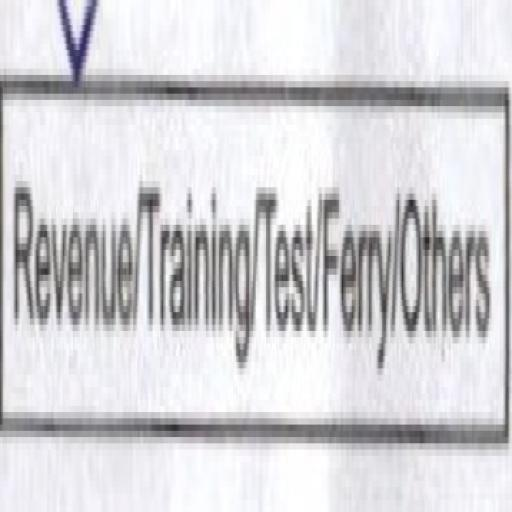check: (0, 0, 139, 456)
